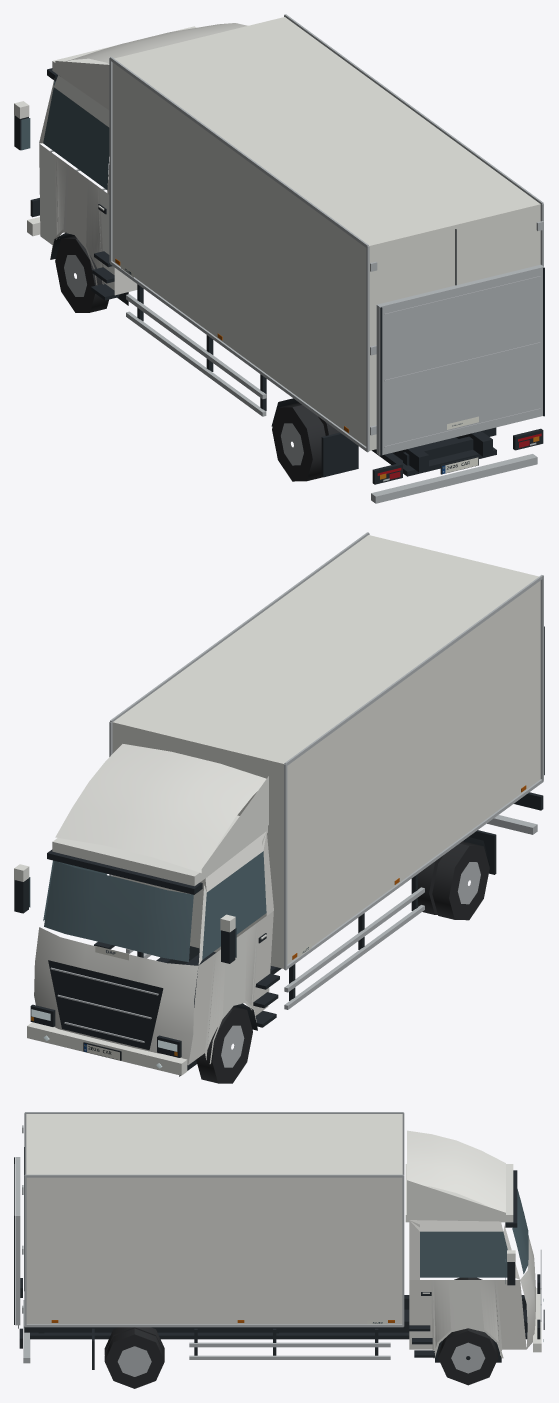
Rendered from Entrega_03_DAF_CF310_LOD2.glb.
3 renders of one model, top to bottom at view 1: azimuth 30°, elevation 25°; view 2: azimuth 150°, elevation 25°; view 3: azimuth 270°, elevation 25°, orthographic. The views are drawn at different scales.
Visible parts, largest first — view 1: Cargo, Liftgate, Body, Glass, Wheel_RL, Wheel_FL; view 2: Cargo, Body, Glass, Wheel_RL, Wheel_FL; view 3: Cargo, Body, Glass, Wheel_RR, Wheel_FR, Liftgate.
Part boxes in pixels (left/top/right/bottom): Cargo: left=109, top=14, right=543, bottom=452; Liftgate: left=376, top=264, right=544, bottom=455; Body: left=14, top=23, right=543, bottom=503; Glass: left=21, top=81, right=109, bottom=189; Wheel_RL: left=272, top=402, right=339, bottom=481; Wheel_FL: left=55, top=236, right=108, bottom=312; Cargo: left=109, top=532, right=543, bottom=970; Body: left=14, top=744, right=543, bottom=1076; Glass: left=29, top=851, right=266, bottom=961; Wheel_RL: left=418, top=841, right=489, bottom=920; Wheel_FL: left=196, top=1006, right=252, bottom=1083; Cargo: left=22, top=1112, right=404, bottom=1327; Body: left=18, top=1130, right=544, bottom=1369; Glass: left=420, top=1189, right=528, bottom=1283; Wheel_RR: left=104, top=1327, right=164, bottom=1388; Wheel_FR: left=438, top=1328, right=498, bottom=1385; Liftgate: left=14, top=1157, right=20, bottom=1325.
Bounding box in the file's own units: 3.11 × 3.99 × 8.99.
Materials: 12 (2 with a texture image).
